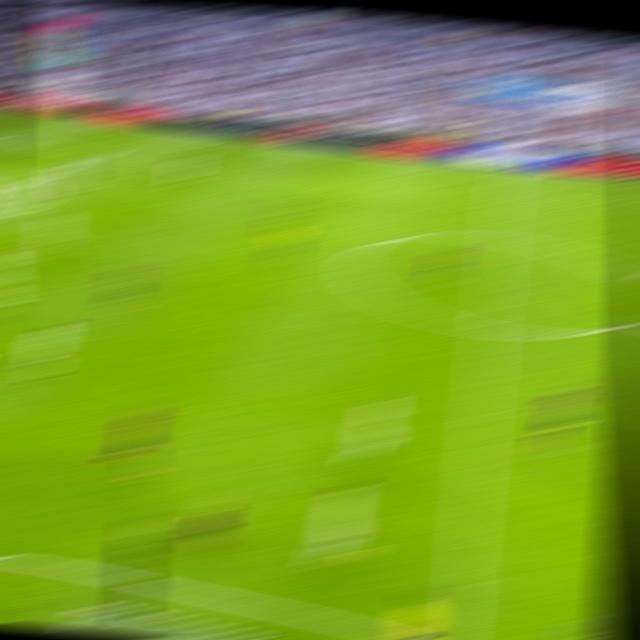halfcircle_bottom: (472, 312, 507, 346)
halfcircle_top: (483, 224, 515, 252)
midline_bottom_intersection: (439, 627, 476, 638)
midline_top_intersection: (492, 167, 520, 181)
top_arc_area_intersection: (20, 174, 45, 186)
